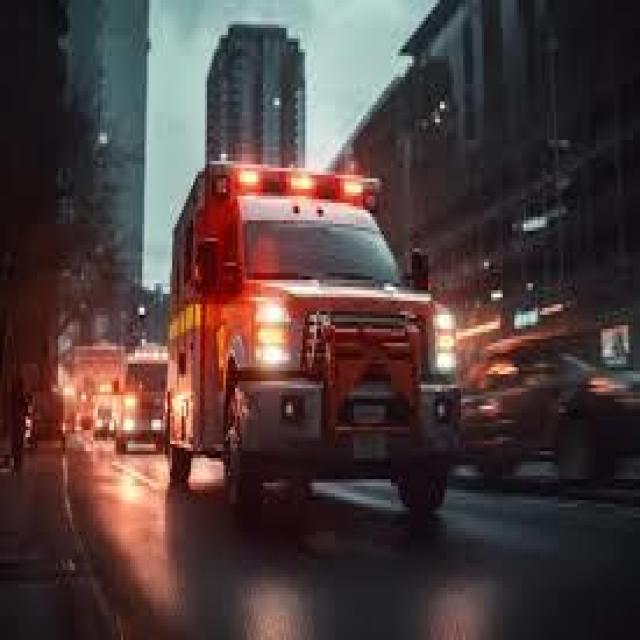ambulance: (174, 162, 456, 491), (118, 335, 164, 445), (69, 348, 116, 436)
